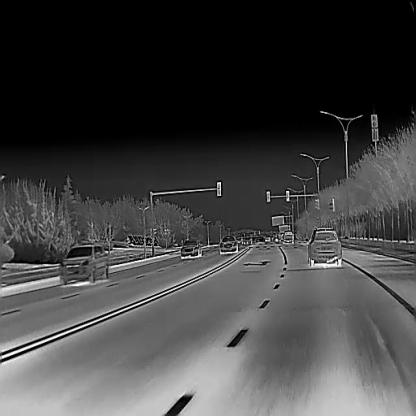car: (58, 243, 108, 284), (304, 226, 341, 266), (180, 238, 202, 258), (219, 233, 238, 253), (282, 232, 293, 244), (236, 236, 242, 244)
